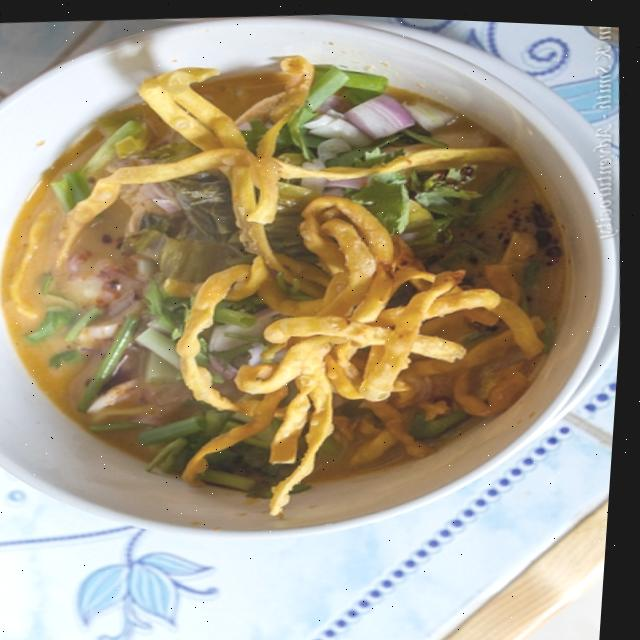面条主食: (0, 20, 596, 529)
